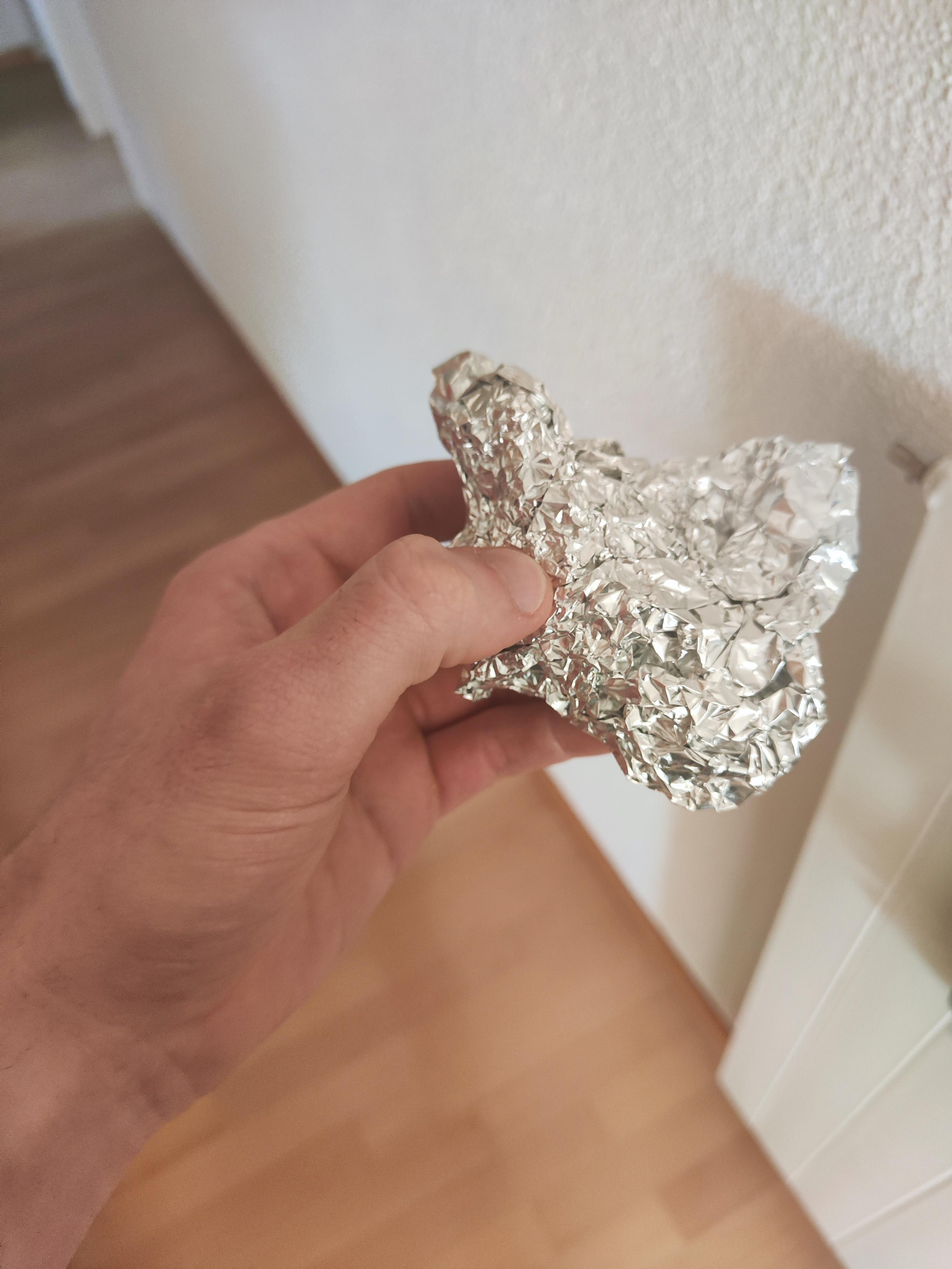Metal: (412, 331, 872, 822)
